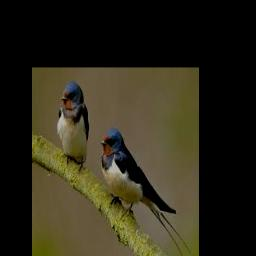Swallow: (100, 129, 190, 256), (57, 82, 89, 166)
